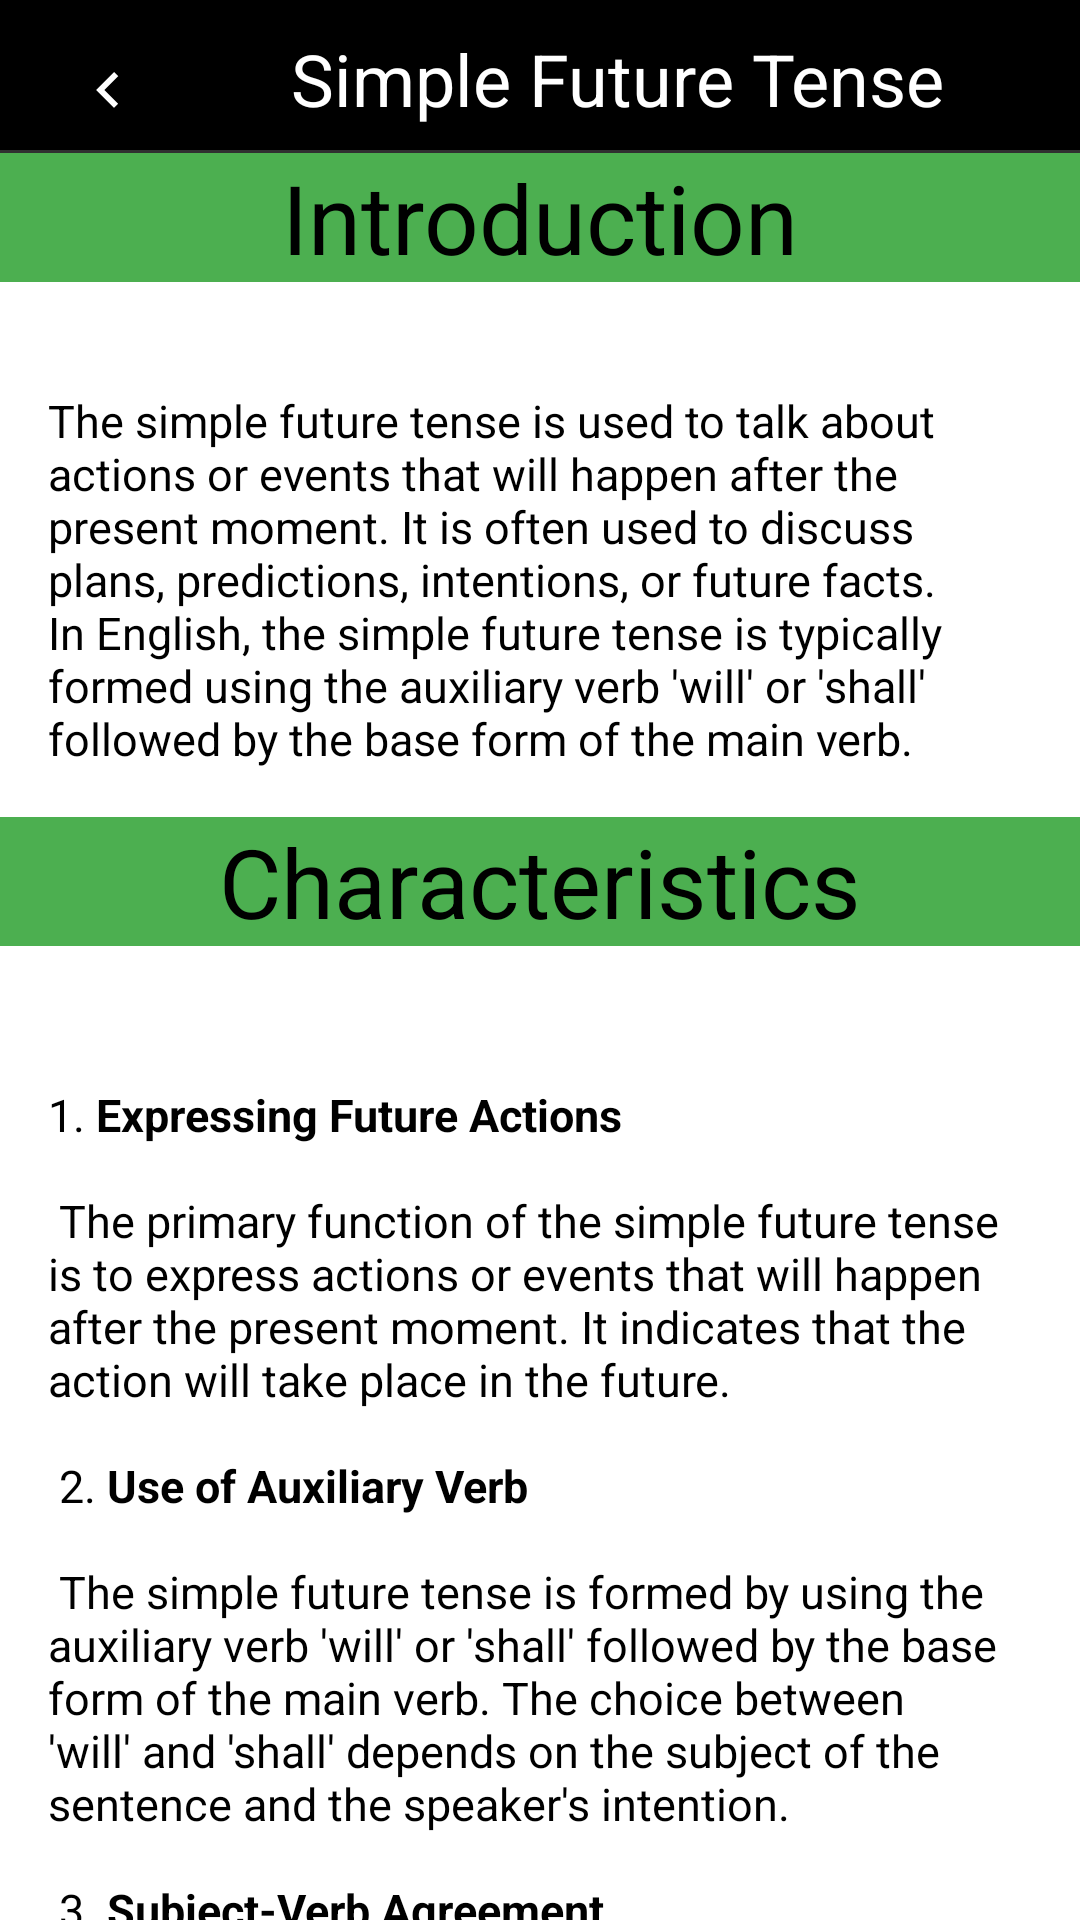

Icon click points for this 1080 x 1920 phone screenshot, format point (x, y):
backbt: point (107, 90)
